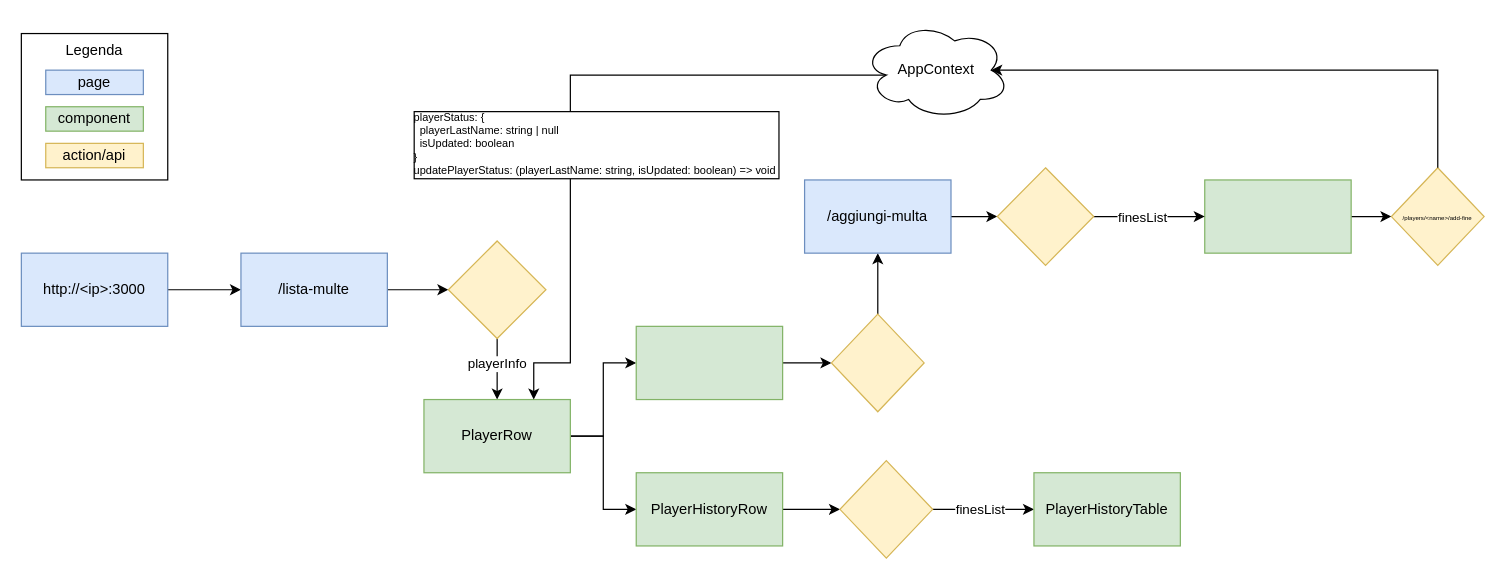
Some shapes in this 1505 by 580 pixel diagram are drawn without their labels. Here are the shapes that lost their labels. From the top down, the centre of each, then its label:
pixel 1045 216: getFines()
pixel 1277 216: AddFineDialog
pixel 496 289: getPlayersInfo
pixel 709 362: PlayerInfoRow
pixel 877 362: /lista-multe/aggiungi-multa?player=<name>
pixel 886 508: /players/<name>/get-history
